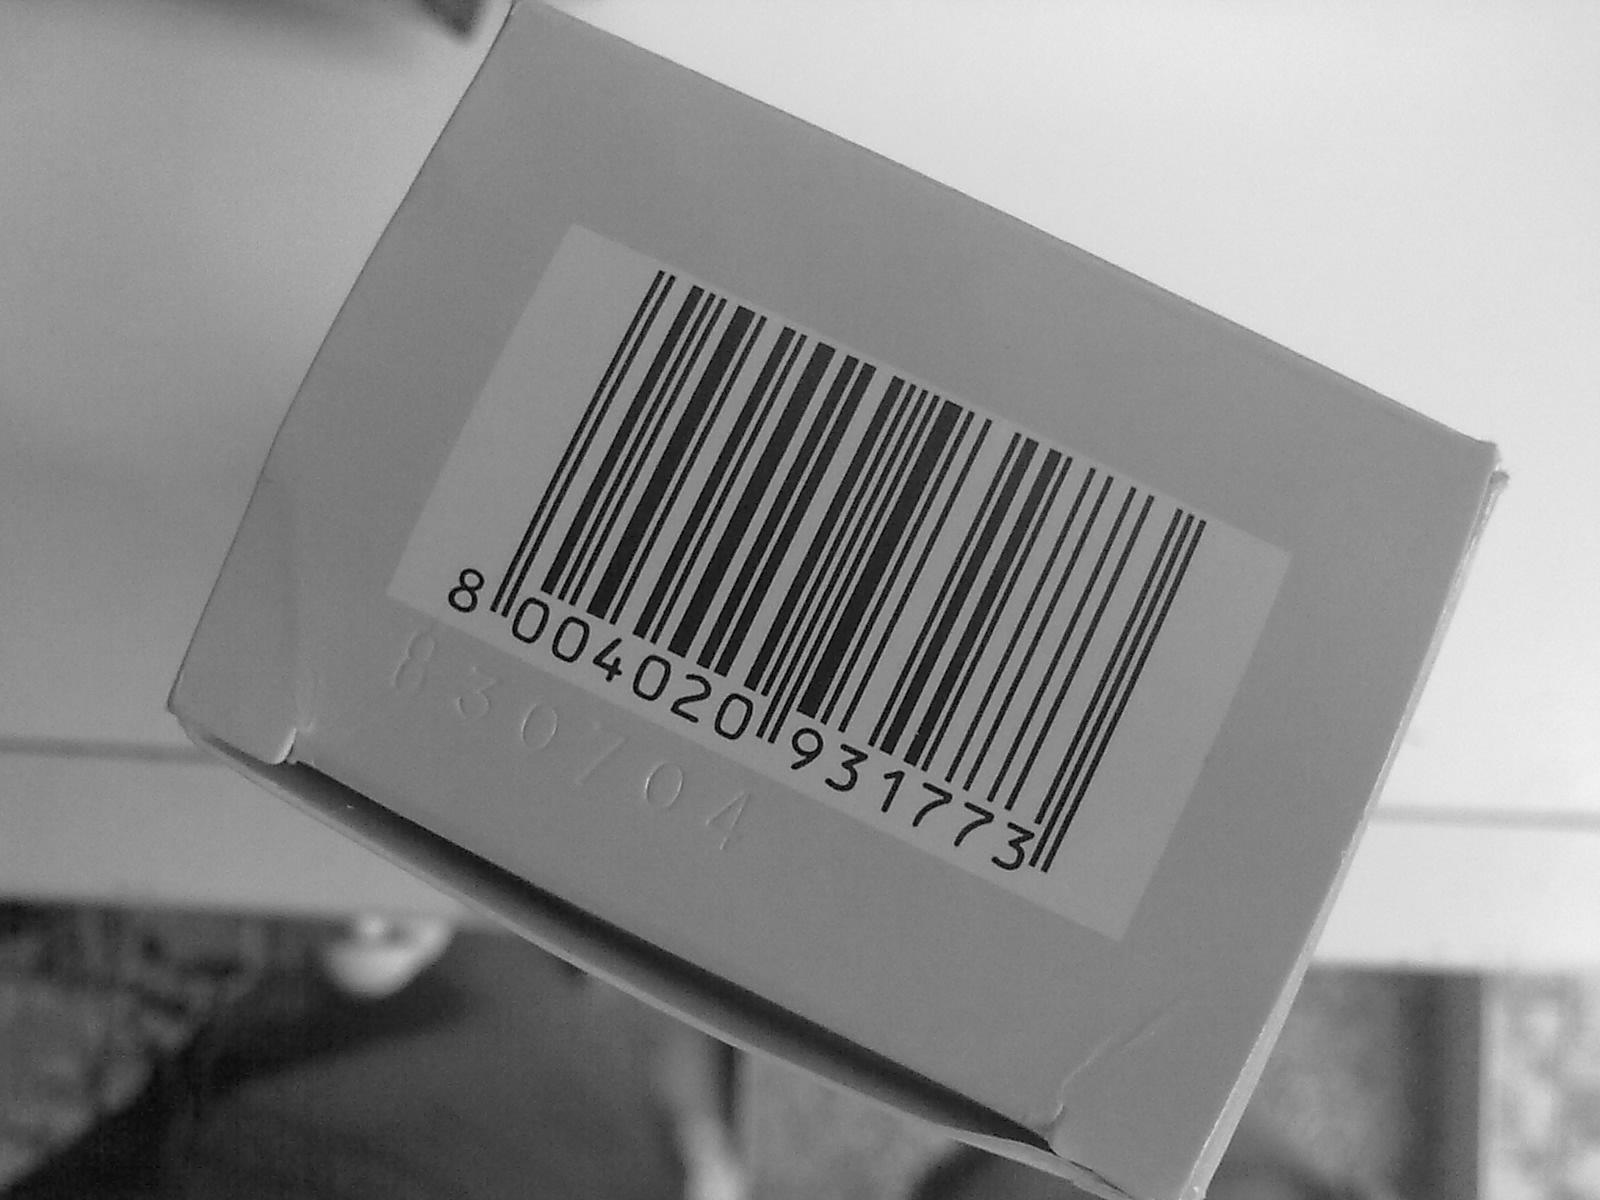Barcode: (499, 239, 1221, 849)
